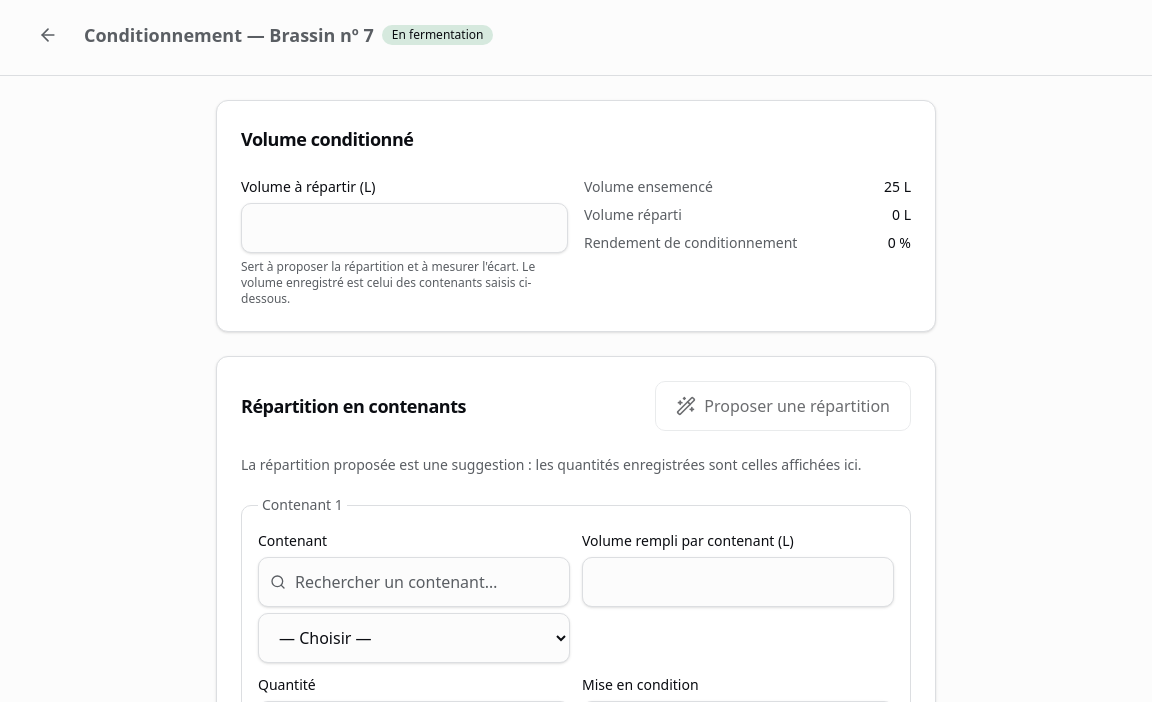
écran de conditionnement (M9-13) › contrôle des stocks de contenants (§D) › avertit d'un stock insuffisant sans bloquer l'enregistrement
Le catalogue n'a que 2 fûts en stock.
Select "Fût 20 L · 2 en stock" in the dropdown labelled "Contenant": [414, 638] box [258,613,570,663]
(page scrolled)
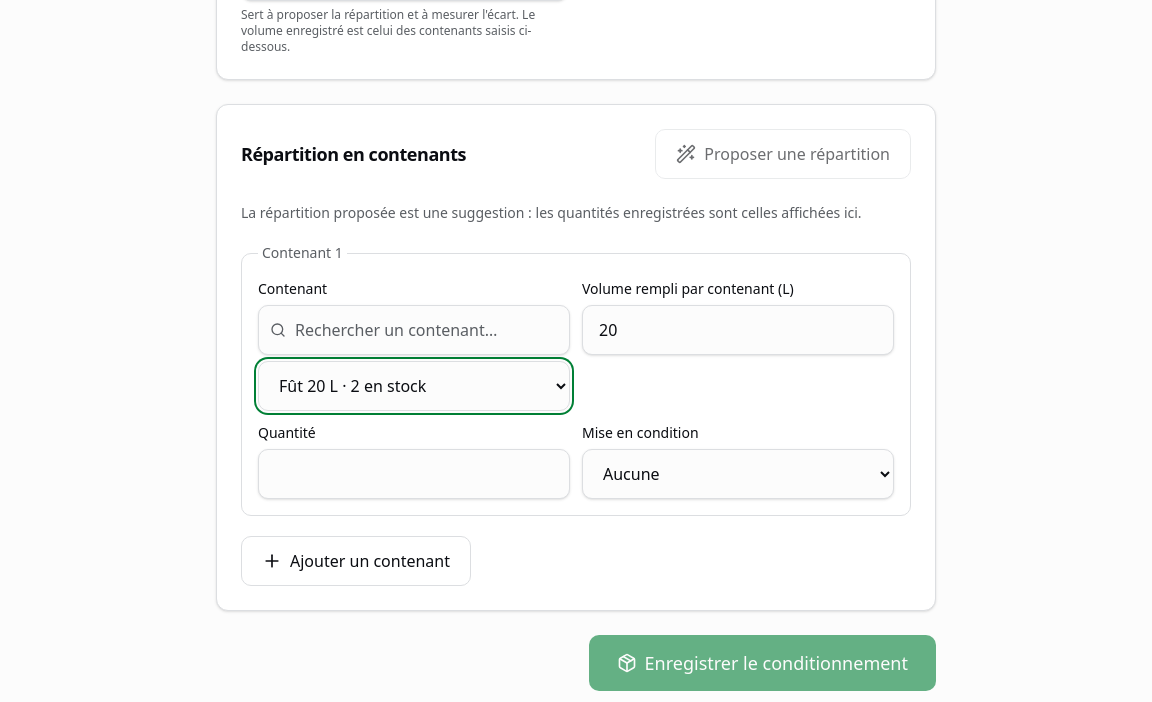
In the number field labelled "Quantité": [414, 474] box [258,449,570,499], type "5"
(page scrolled)
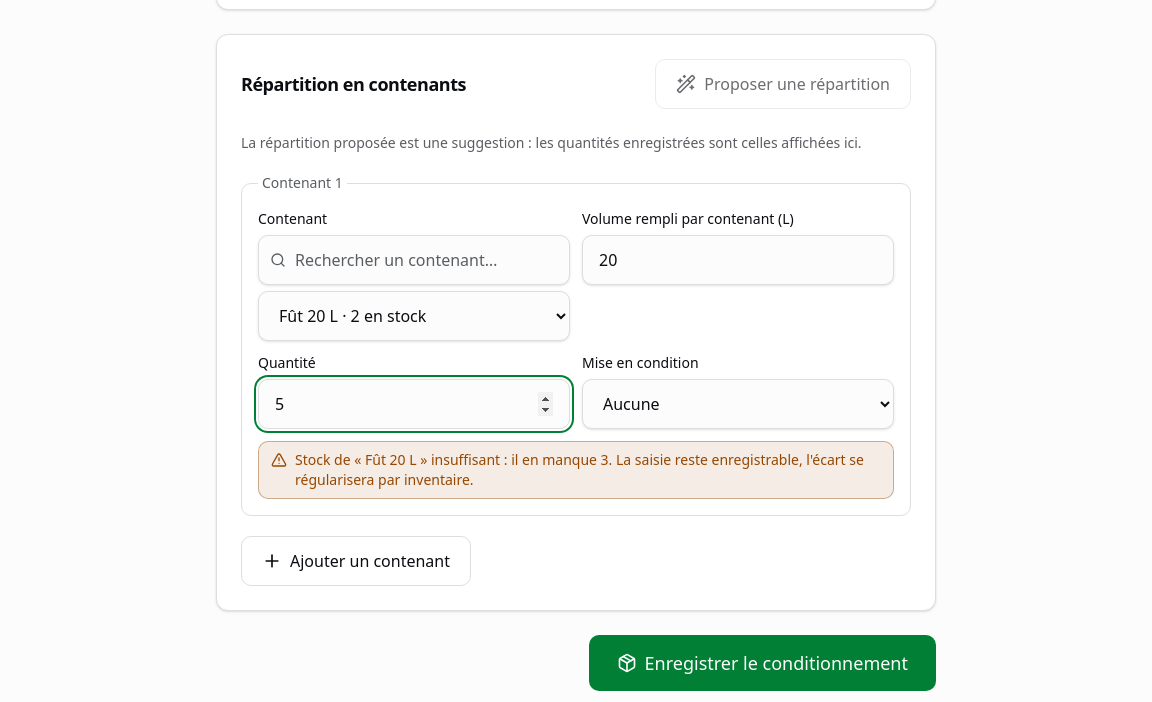
Check: the text "Stock de « Fût 20 L » insuffisant : il en manque 3" is shown, box [295,450,881,490]
Check: the button "Enregistrer le conditionnement" is enabled, box [589,635,936,691]
